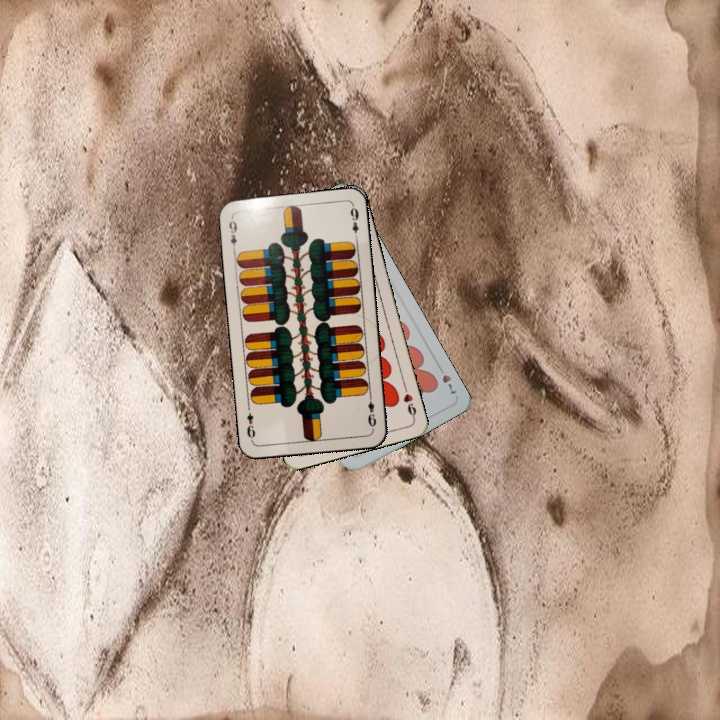E9: (364, 391, 379, 431), (225, 214, 240, 248)
H7: (433, 361, 459, 397)
H9: (399, 381, 419, 421)
